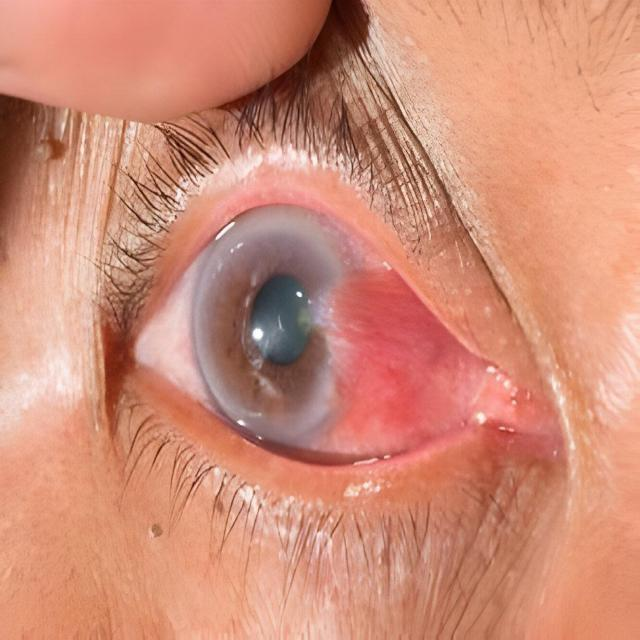Pterygium: (304, 268, 507, 462)
